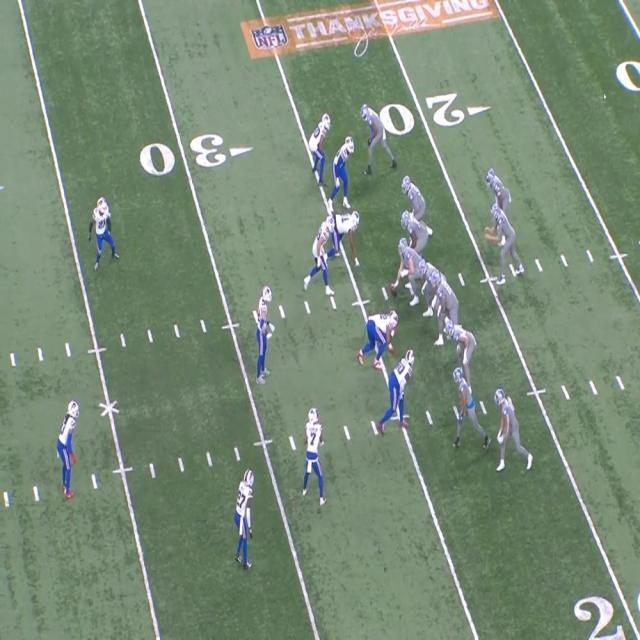center: (394, 236, 417, 296)
db: (304, 406, 323, 507), (240, 464, 258, 566), (60, 402, 78, 497), (310, 112, 331, 184), (94, 195, 114, 266)
lb: (308, 212, 333, 296), (256, 282, 274, 378)
qb: (492, 200, 518, 273)
skill: (494, 384, 523, 473), (454, 367, 483, 441), (363, 104, 394, 169), (330, 132, 355, 206), (454, 324, 477, 370), (487, 166, 509, 203)
